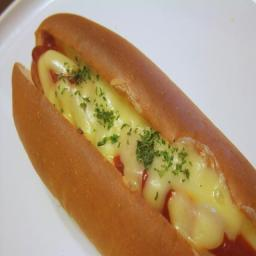hotdog: (15, 10, 256, 256)
